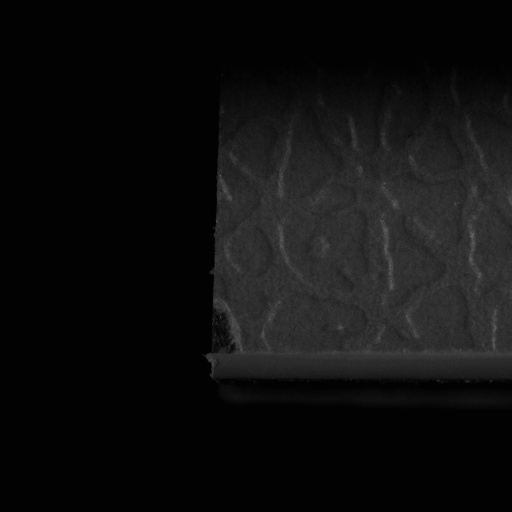bengque: (206, 295, 243, 358)
